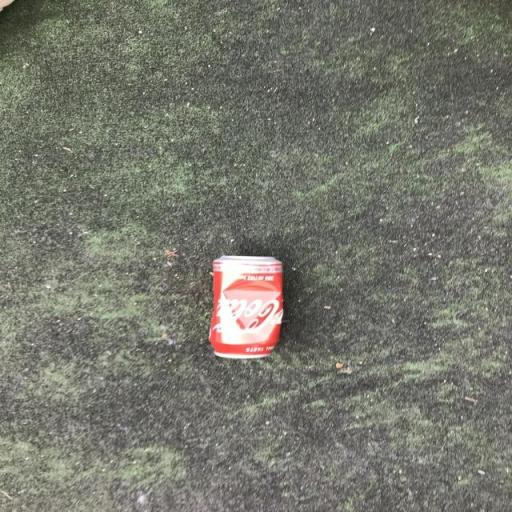metal: (172, 250, 320, 370)
